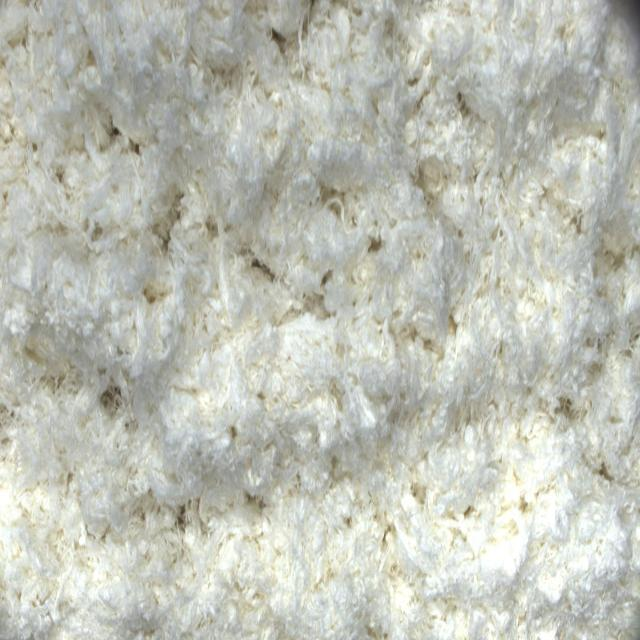dust: (100, 376, 126, 416)
